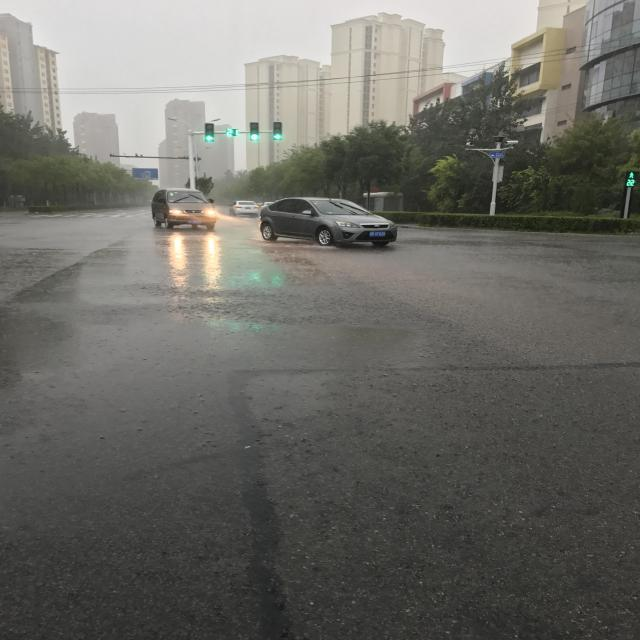car: (196, 243, 248, 381), (188, 424, 232, 489), (200, 380, 218, 410)
